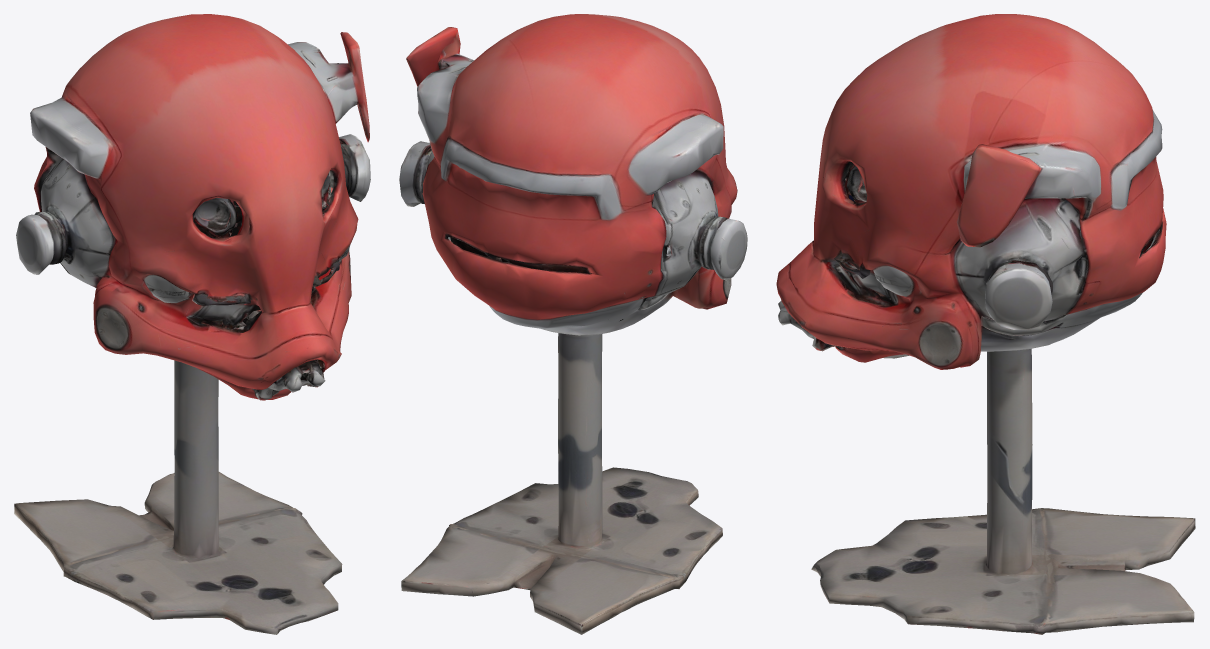
Rendered from red_cyber_helmet_2.glb.
The picture shows the model from 3 angles, left to right: view 1: azimuth 30°, elevation 25°; view 2: azimuth 150°, elevation 25°; view 3: azimuth 270°, elevation 25°; orthographic projection. The views are drawn at different scales.
Visible parts, largest first — view 1: Object_4; view 2: Object_4; view 3: Object_4.
Part boxes in pixels (x1,y1,x2,y2): Object_4: (14, 14, 370, 634); Object_4: (399, 14, 747, 634); Object_4: (776, 14, 1195, 634).
Size of the model in its own units: 1.31 by 1.99 by 1.39.
1 material, 1 textured.
